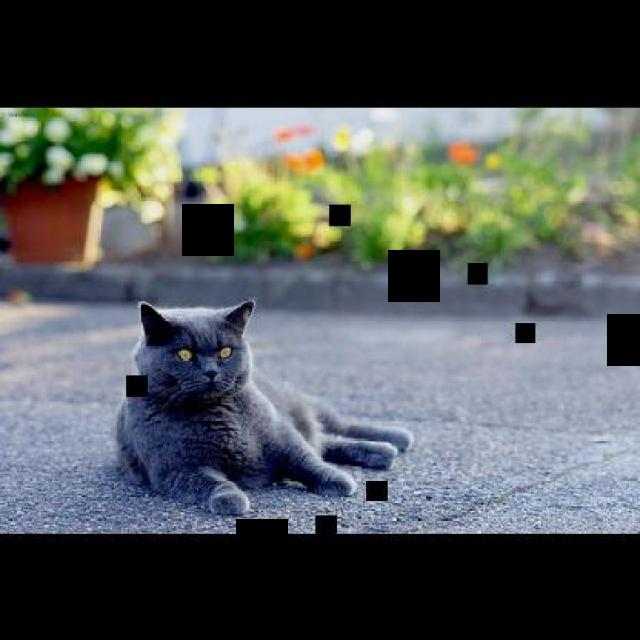unauthorized: (114, 297, 414, 515)
